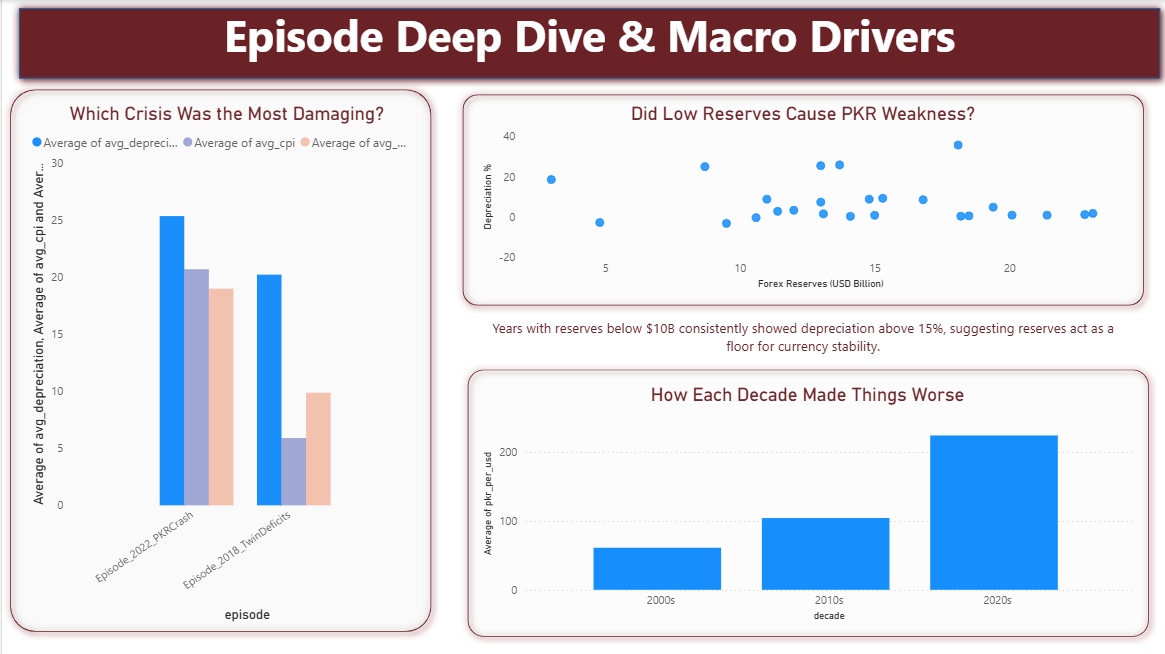

The dashboard page shown, as its layout file describes it:
{"tool":"powerbi","page":{"name":"Episode Deep Dive & Macro Drivers","canvas":[1280,720],"ordinal":1},"visuals":[{"type":"shape","box":[9.5,0,1270.8,95.2],"z":0},{"type":"textbox","box":[9.5,0,1270.8,80.9],"z":1000},{"type":"clusteredColumnChart","title":"Which Crisis Was the Most Damaging?","fields":{"Category":["pkr_analysis depreciation_episodes.episode"],"Y":["Avg(pkr_analysis depreciation_episodes.avg_depreciation)","Avg(pkr_analysis depreciation_episodes.avg_cpi)","Avg(pkr_analysis depreciation_episodes.avg_policy_rate)"]},"box":[27.4,112.5,439.1,575],"z":2000},{"type":"scatterChart","title":"Did Low Reserves Cause PKR Weakness?","fields":{"X":["Sum(pkr_analysis economic_indicators.forex_reserves_usd_bn)"],"Y":["Sum(pkr_analysis economic_indicators.yoy_depreciation_pct)"],"Category":["pkr_analysis economic_indicators.year"]},"box":[522.8,112.5,713.6,209.9],"z":3000},{"type":"clusteredColumnChart","title":"How Each Decade Made Things Worse","fields":{"Category":["pkr_analysis economic_indicators.decade"],"Y":["Avg(pkr_analysis economic_indicators.pkr_per_usd)"]},"box":[522.8,421.3,723.2,266.2],"z":4000},{"type":"shape","box":[0,89.2,480.3,613.4],"z":5000},{"type":"shape","box":[496.7,94.7,765.7,249.7],"z":6000},{"type":"shape","box":[502.2,396.6,765.7,311.5],"z":7000},{"type":"textbox","box":[522.8,344.4,713.6,56.3],"z":7001}]}

Visuals, with their boxes in screenshot pixels (x1, y1, x2, y2), scaled from the page's 1280x720 canvas onto the 1165x654 screenshot:
shape: region(9, 0, 1164, 86)
textbox: region(9, 0, 1164, 73)
"Which Crisis Was the Most Damaging?" clusteredColumnChart: region(25, 102, 425, 624)
"Did Low Reserves Cause PKR Weakness?" scatterChart: region(476, 102, 1125, 293)
"How Each Decade Made Things Worse" clusteredColumnChart: region(476, 383, 1134, 624)
shape: region(0, 81, 437, 638)
shape: region(452, 86, 1149, 313)
shape: region(457, 360, 1154, 643)
textbox: region(476, 313, 1125, 364)
